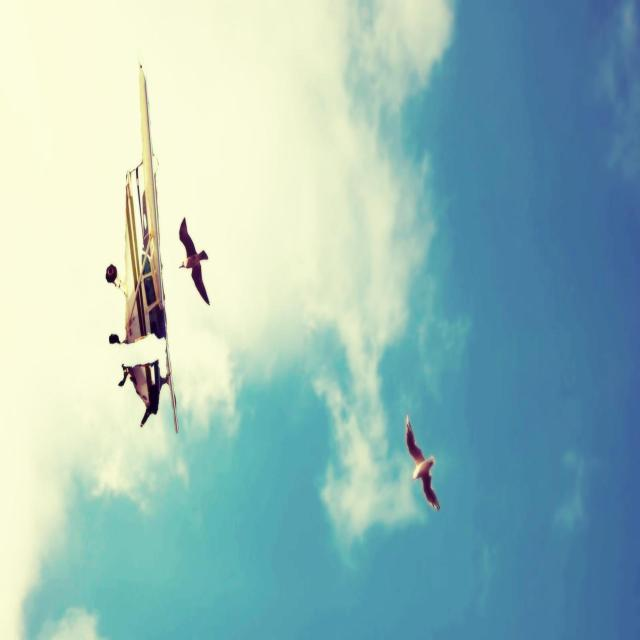airplane: (105, 52, 179, 434)
